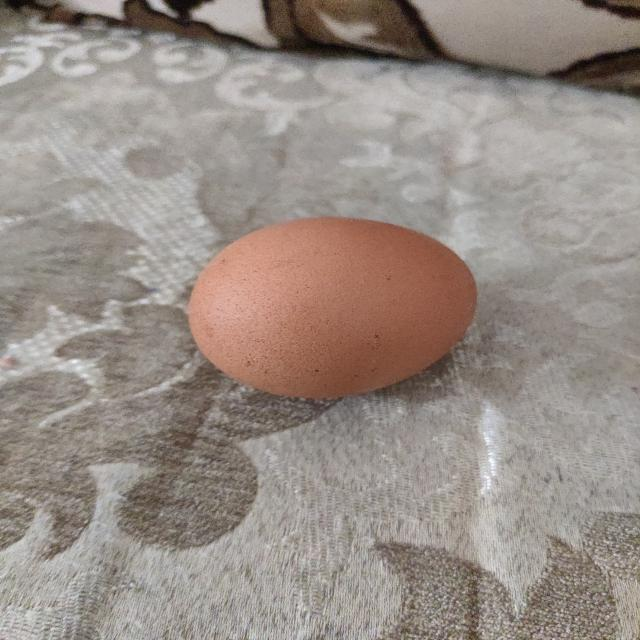Egg: (180, 213, 486, 404)
